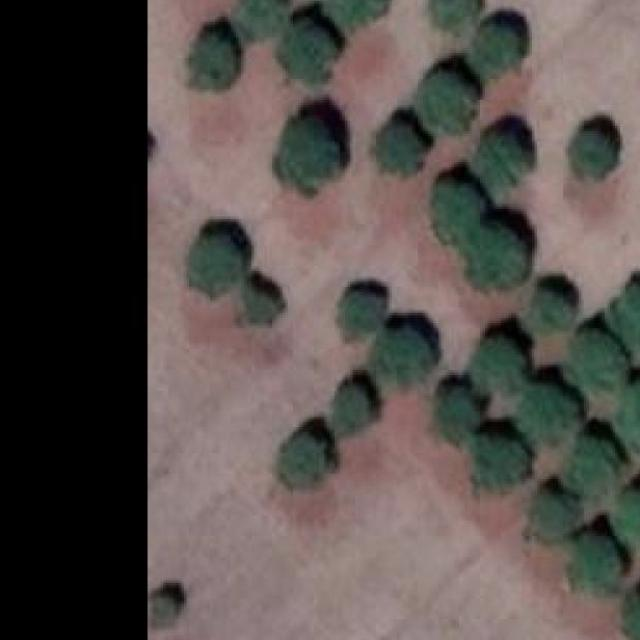Tree: (280, 121, 336, 191), (518, 385, 576, 446), (371, 332, 428, 388), (418, 77, 474, 132), (472, 233, 526, 290), (560, 438, 617, 490), (282, 25, 334, 80), (189, 238, 241, 293), (433, 183, 483, 240), (278, 432, 330, 484), (480, 131, 527, 188), (570, 334, 622, 384), (469, 25, 516, 80), (474, 338, 518, 391), (191, 32, 233, 87), (475, 441, 527, 485), (570, 538, 615, 588), (236, 0, 288, 43), (321, 0, 389, 32), (336, 289, 384, 328), (440, 390, 477, 440), (570, 131, 612, 175), (331, 389, 371, 433), (534, 495, 579, 534), (376, 129, 413, 173), (532, 289, 571, 328), (613, 286, 640, 340), (613, 492, 640, 544), (430, 0, 477, 25), (617, 388, 640, 438), (243, 294, 274, 323), (150, 596, 176, 628), (625, 596, 640, 640)
